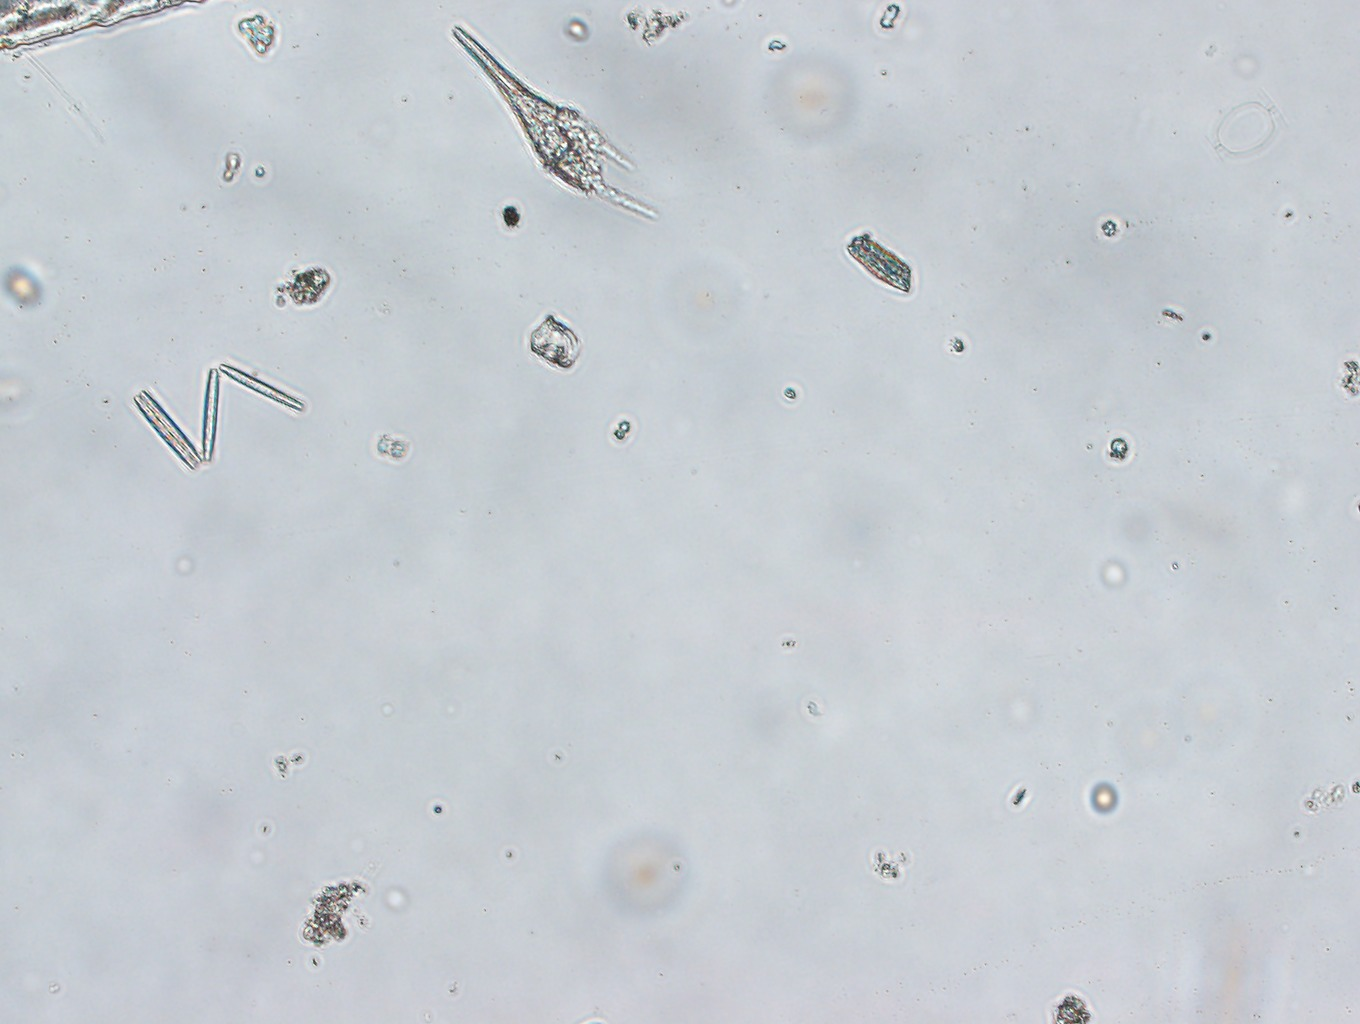ceratium furca: (443, 22, 658, 227)
thalassionema nitzschioides: (127, 350, 310, 473)
